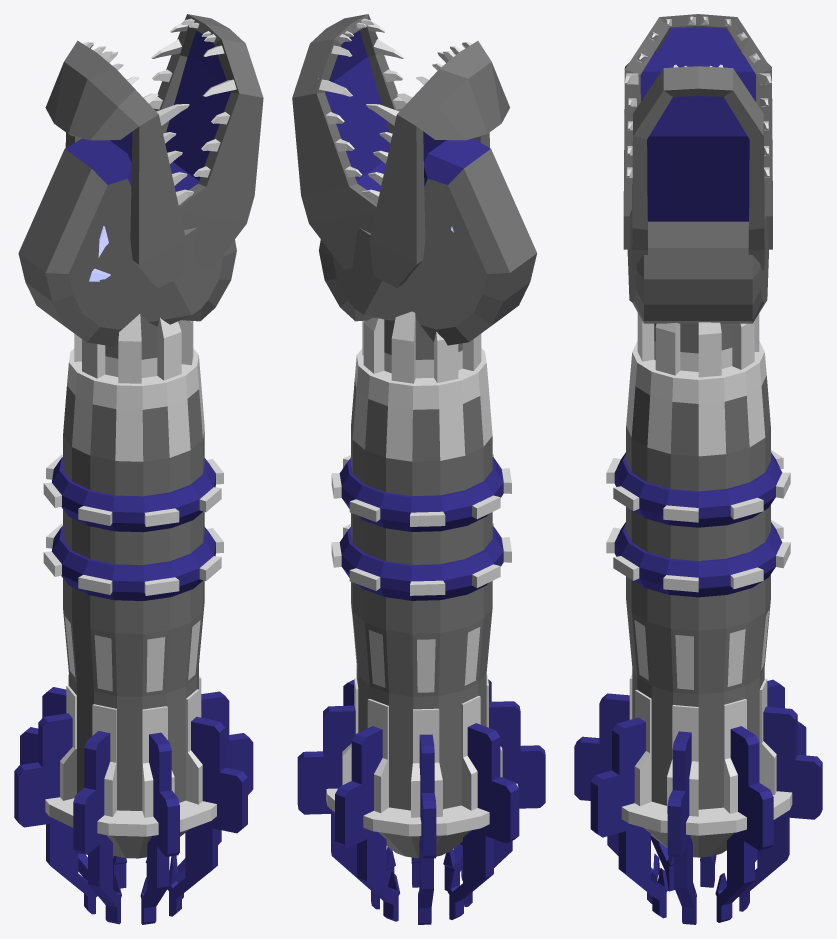
The model's file is pillarweapon.fbx.
3 views of the same model, side by side, from view 1: azimuth 30°, elevation 25°; view 2: azimuth 150°, elevation 25°; view 3: azimuth 270°, elevation 25° (orthographic).
Visible parts, largest first — view 1: Cube.004; view 2: Cube.004; view 3: Cube.004.
Boxes of the visible parts, x1=… form: Cube.004: x1=14, y1=14, x2=263, y2=924; Cube.004: x1=292, y1=14, x2=545, y2=924; Cube.004: x1=574, y1=14, x2=822, y2=924.
Size of the model in its own units: 154 by 599 by 154.
